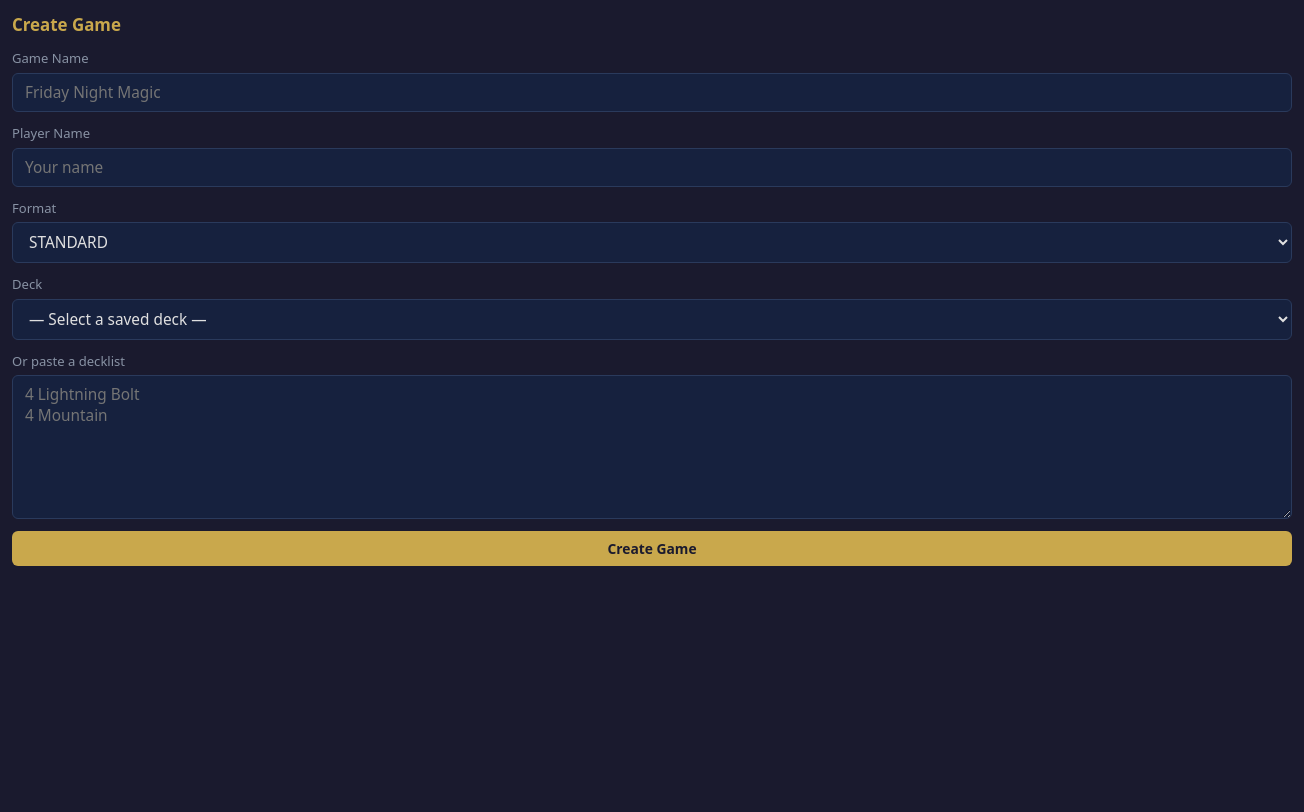
Test: CreateGameForm › shows error when game name is empty
Click the button "Create Game": (652, 549) [12,531,1292,566]
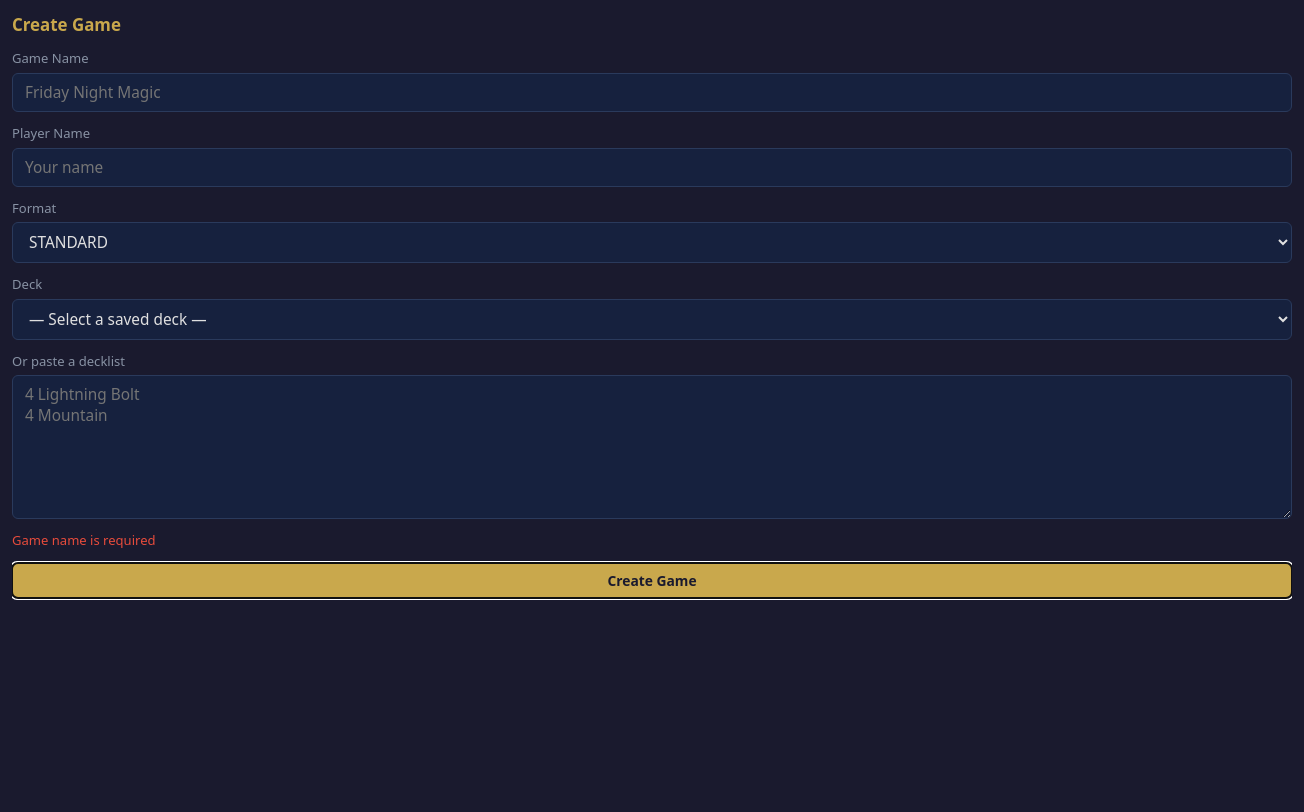
Expected: the message reads "Game name is required", [12,531,156,549]
